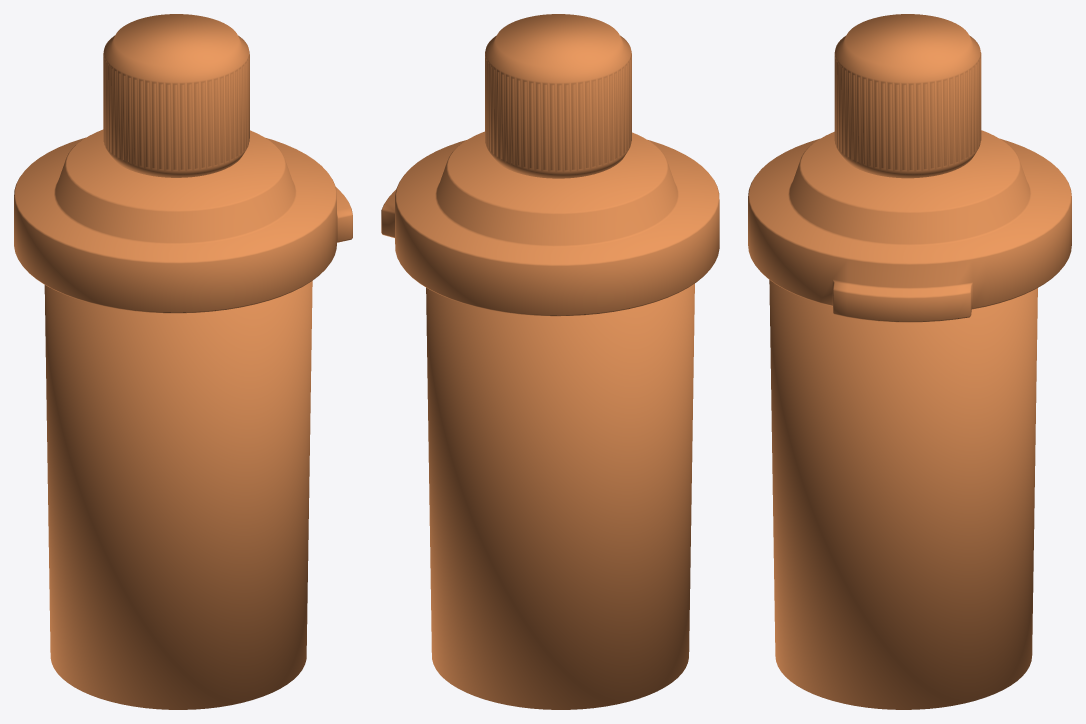
Rendered from pills_ver2.fbx.
3 views of the same model, side by side, from view 1: azimuth 30°, elevation 25°; view 2: azimuth 150°, elevation 25°; view 3: azimuth 270°, elevation 25° (orthographic).
Visible parts, largest first — view 1: Cylinder.027; view 2: Cylinder.027; view 3: Cylinder.027.
Boxes of the visible parts, <box> form: Cylinder.027: <box>14,14,352,709</box>; Cylinder.027: <box>381,14,719,709</box>; Cylinder.027: <box>748,14,1071,709</box>.
Bounding box in the file's own units: 16.92 × 33.61 × 16.03.
